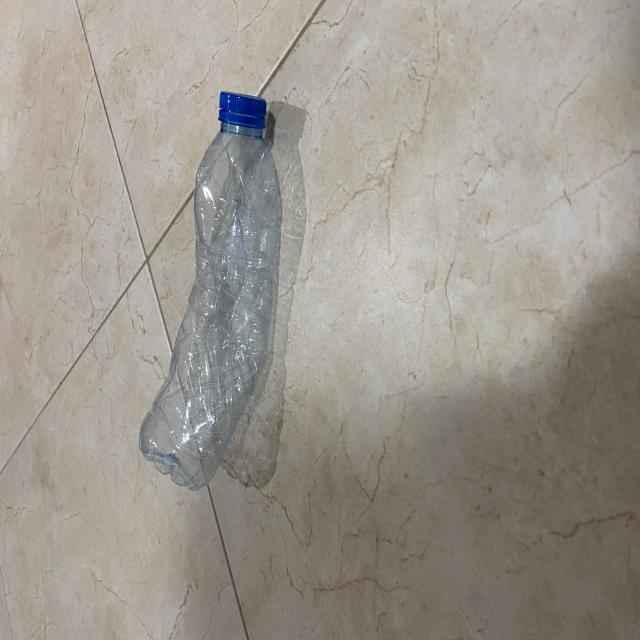bottle: (130, 68, 278, 503)
